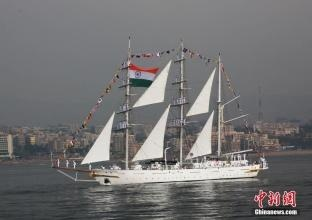fanchuan: (54, 37, 282, 191)
